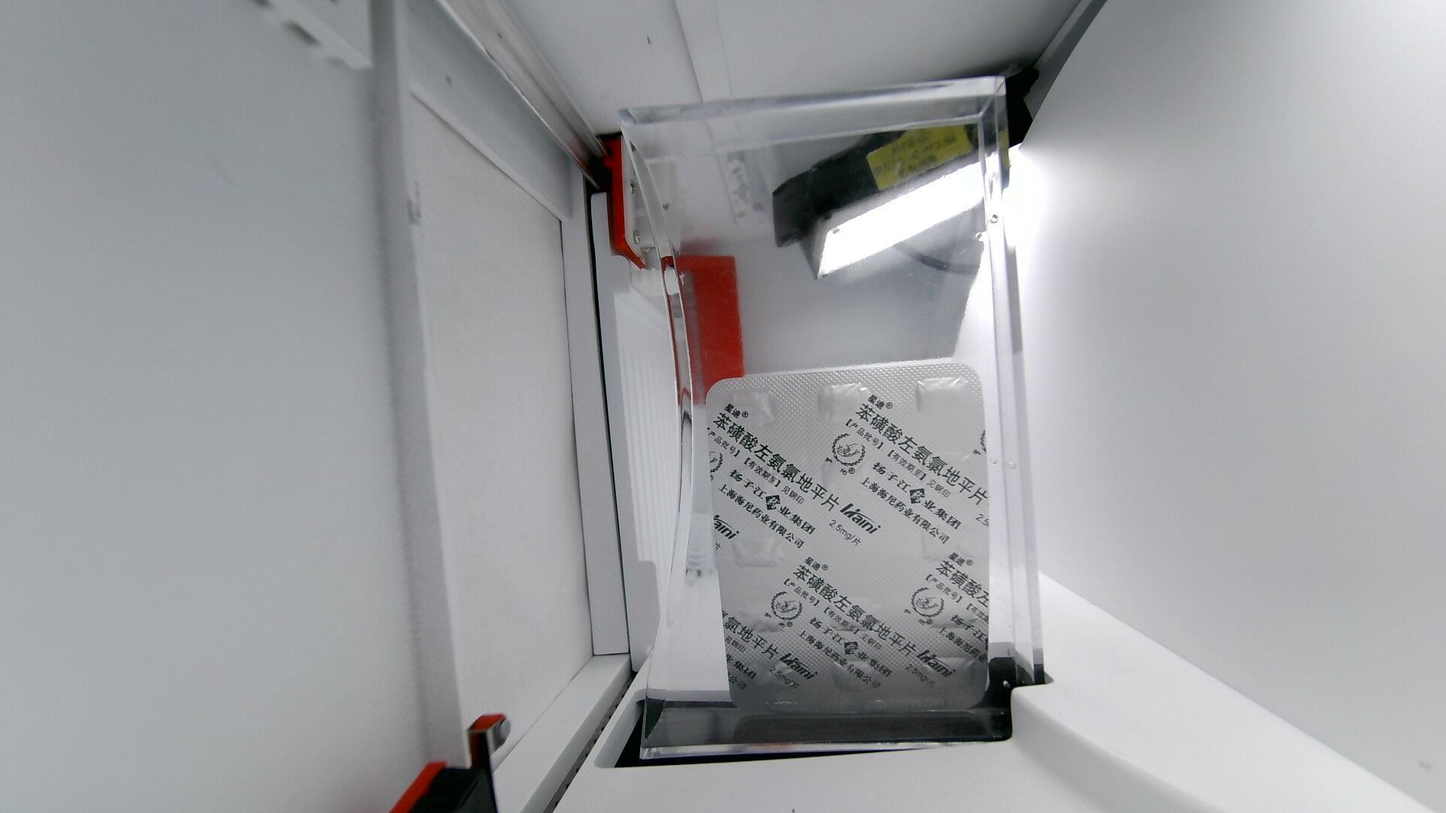Pill Back: (818, 449, 889, 500), (919, 449, 988, 501), (729, 457, 810, 498), (804, 385, 880, 425), (732, 528, 799, 573), (819, 589, 890, 631), (834, 648, 897, 695), (920, 525, 990, 566), (910, 378, 979, 419), (916, 651, 987, 689), (917, 587, 981, 626), (737, 595, 801, 632), (723, 390, 778, 428), (746, 660, 804, 693)
